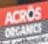AcrosOrganics: (5, 6, 42, 38)
